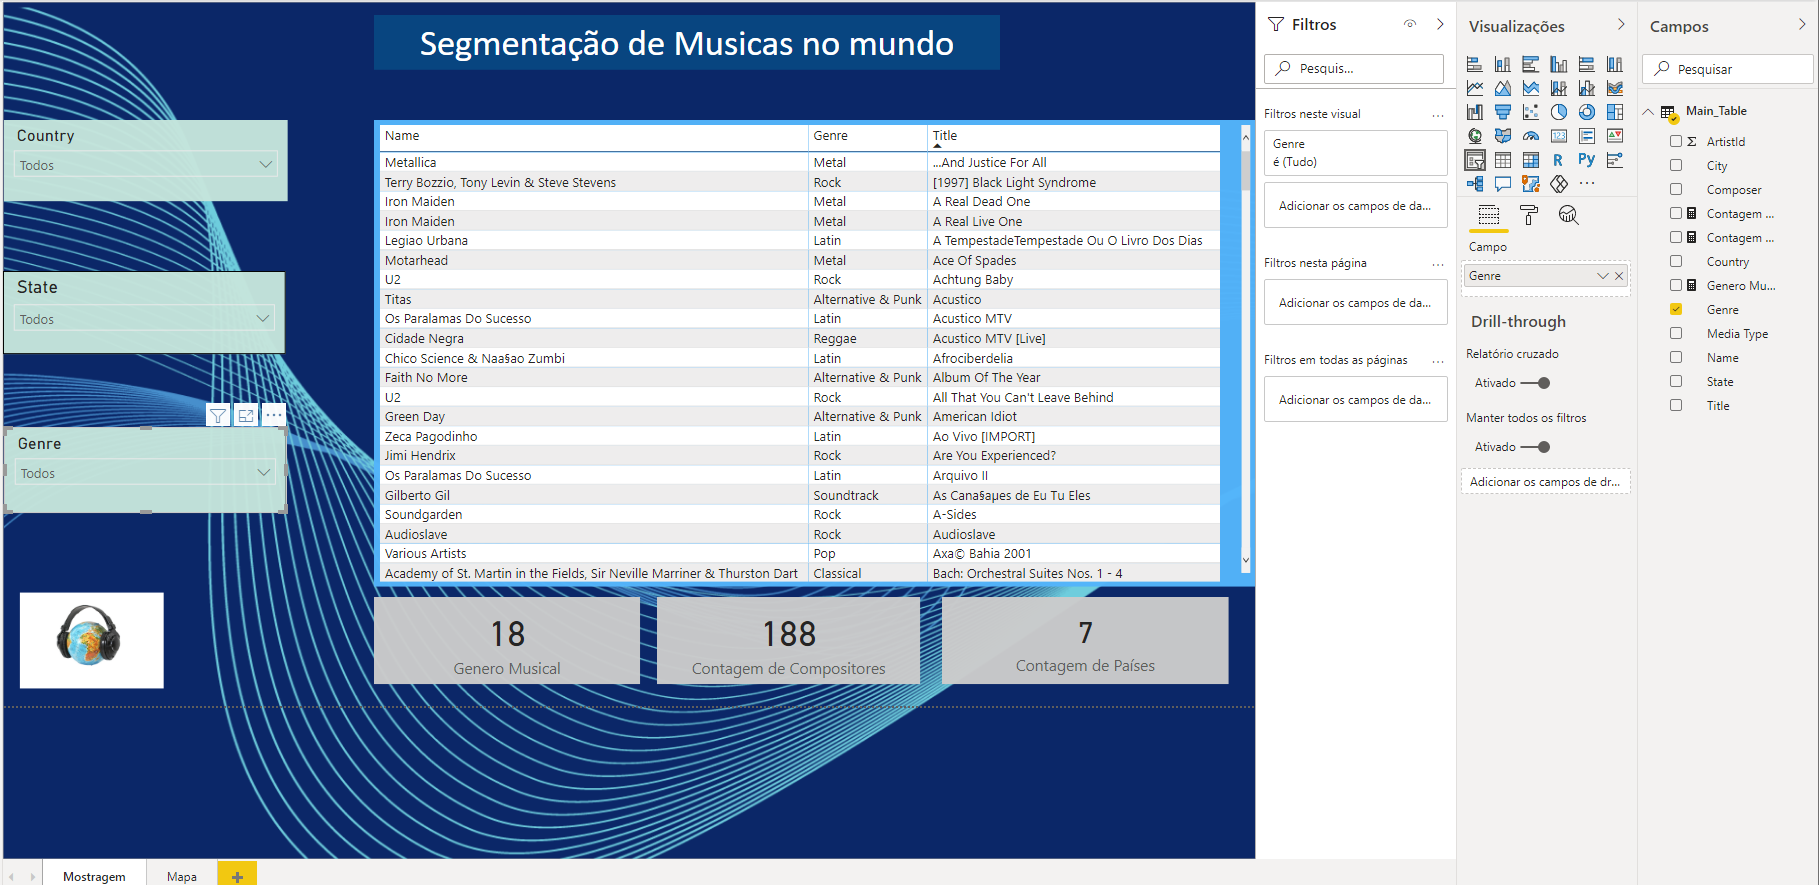

The dashboard page shown, as its layout file describes it:
{"tool":"powerbi","page":{"name":"Mostragem","canvas":[1280,720],"ordinal":0},"visuals":[{"type":"tableEx","fields":{"Values":["Main_Table.Name","Main_Table.Genre","Main_Table.Title"]},"box":[379.3,120.6,900.7,477.4],"z":0},{"type":"slicer","fields":{"Values":["Main_Table.Country"]},"box":[1,120.6,290.4,82.8],"z":1000},{"type":"slicer","fields":{"Values":["Main_Table.State"]},"box":[0,275,289.3,84.9],"z":2000},{"type":"textbox","box":[379.3,13.3,640,56.2],"z":3001},{"type":"slicer","fields":{"Values":["Main_Table.Genre"]},"box":[1,434.5,289.3,87.9],"z":3003},{"type":"card","fields":{"Values":["Main_Table.Medida"]},"box":[668.6,608.3,268.9,88.9],"z":3006},{"type":"card","fields":{"Values":["Main_Table.Contagem de Países"]},"box":[960,608.3,293.4,88.9],"z":3007},{"type":"image","box":[12.3,584.8,157.4,135],"z":3008},{"type":"card","fields":{"Values":["Main_Table.Genero Musical"]},"box":[379.3,608.3,271.9,88.9],"z":3009}]}

Visuals, with their boxes on the page's 1280x720 design canvas (x1, y1, x2, y2). These are canvas units, not pixel positions in the 1819x885 screenshot, which may show the page scaled, cropped or inside an application window:
tableEx - Main_Table.Name x Main_Table.Genre: crop(379, 121, 1280, 598)
slicer - Main_Table.Country: crop(1, 121, 291, 203)
slicer - Main_Table.State: crop(0, 275, 289, 360)
textbox: crop(379, 13, 1019, 70)
slicer - Main_Table.Genre: crop(1, 434, 290, 522)
card - Main_Table.Medida: crop(669, 608, 938, 697)
card - Main_Table.Contagem de Países: crop(960, 608, 1253, 697)
image: crop(12, 585, 170, 720)
card - Main_Table.Genero Musical: crop(379, 608, 651, 697)
